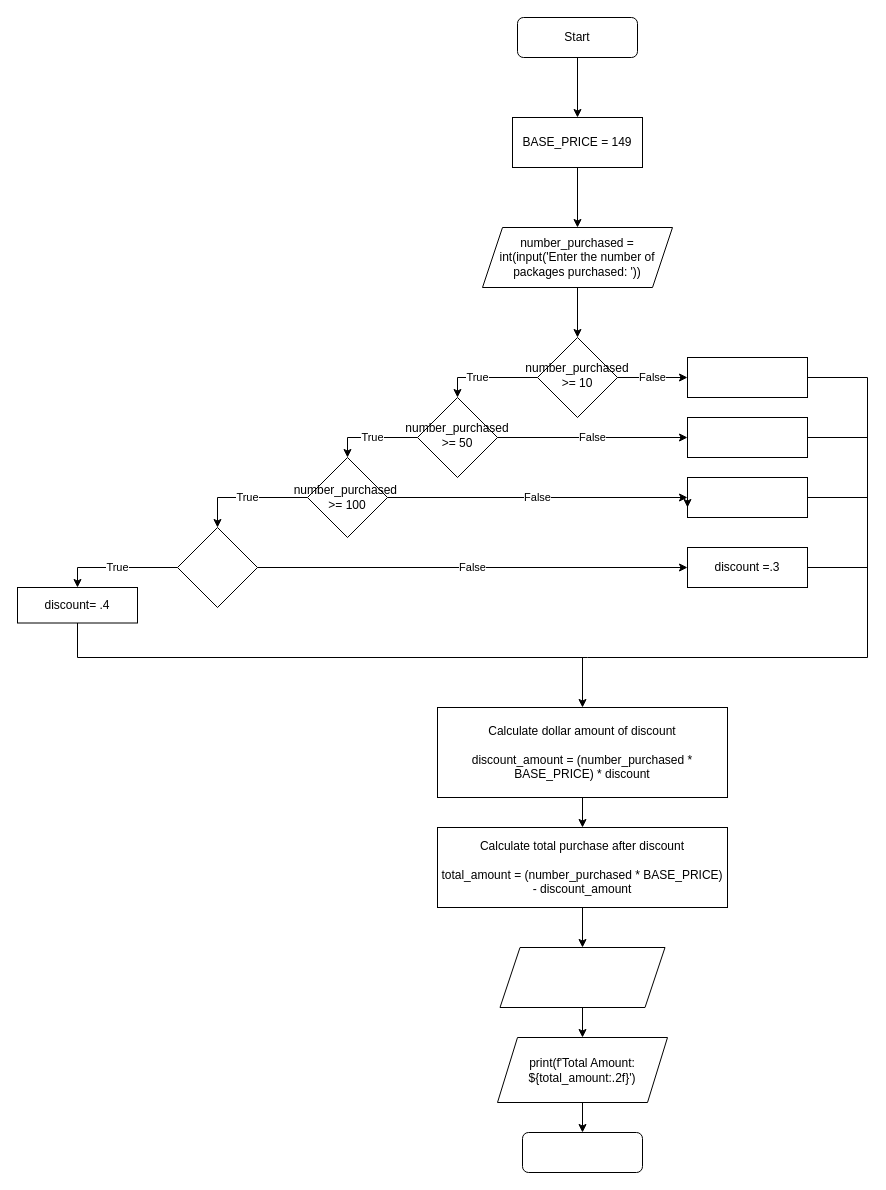
Some shapes in this 886 by 1190 pixel diagram are drawn without their labels. The shapes that lost their labels are listed below. From the top down, each one's centre as x and y in pixels, then its label:
At point 747,377: "discount =0".
At point 747,437: "discount =.1".
At point 747,497: "discount =.2".
At point 217,567: "number_purchased >= 150".
At point 582,977: "print(f'Discount Amount: ${discount_amount:.2f }')".
At point 582,1152: "End".
